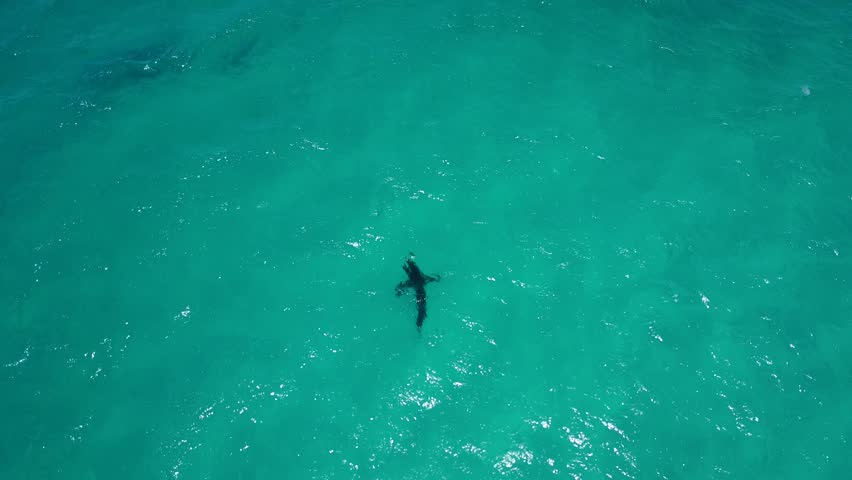shark: (389, 252, 444, 337)
